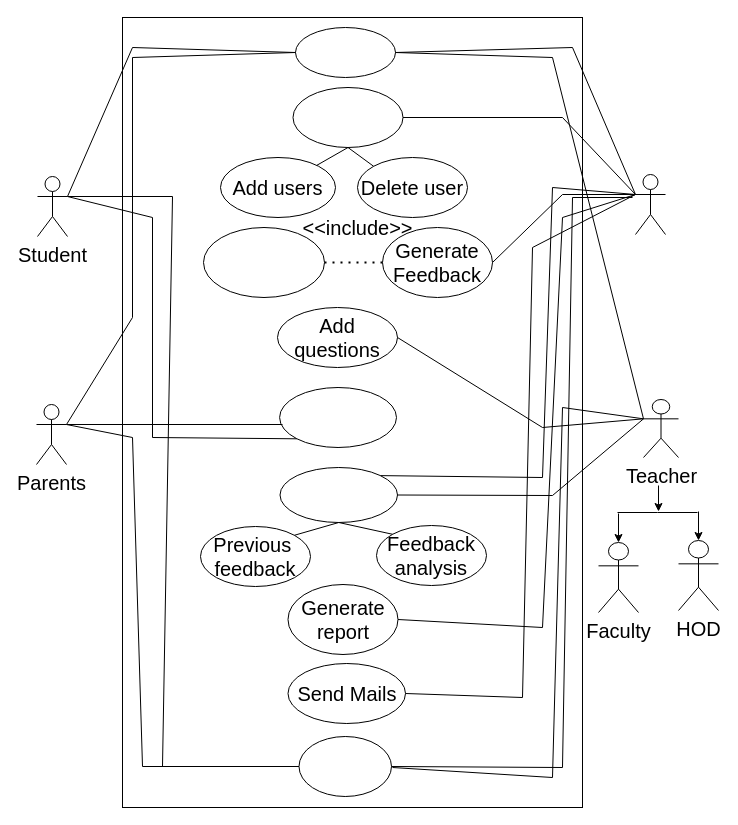
Some shapes in this 738 by 825 pixel diagram are drawn without their labels. The centre of each missing label's shape, as x and y in pixels:
"Admin" belongs at (650,204).
"Generate key" belongs at (263,262).
"Give feedback" belongs at (337,417).
"Login" belongs at (345,52).
"Logout" belongs at (345,766).
"Manage User" belongs at (347,117).
"View Feedback" belongs at (338,494).
